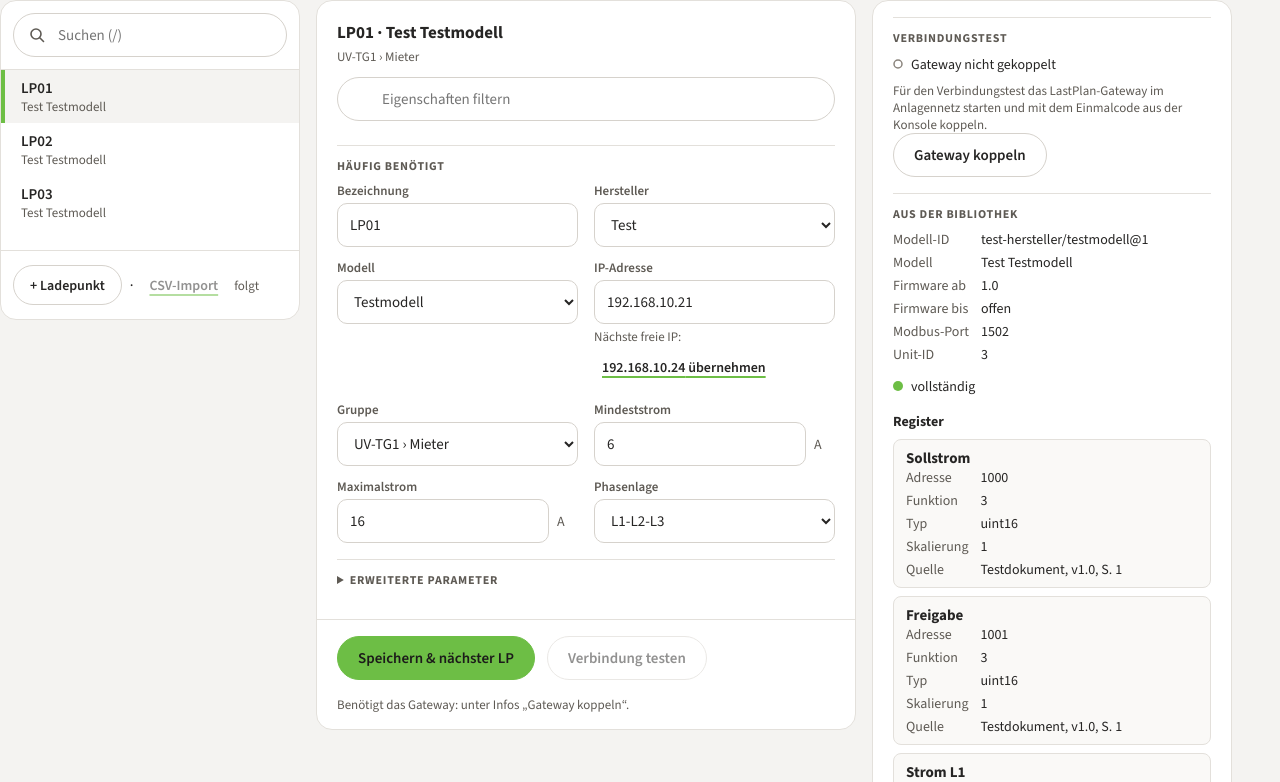
Scenario: Gateway koppeln › Fehler: Format, falscher Code, Gateway nicht erreichbar
The image size is (1280, 782).
Click the button "Gateway koppeln" at {"x": 970, "y": 155}, box [893,133,1047,177]
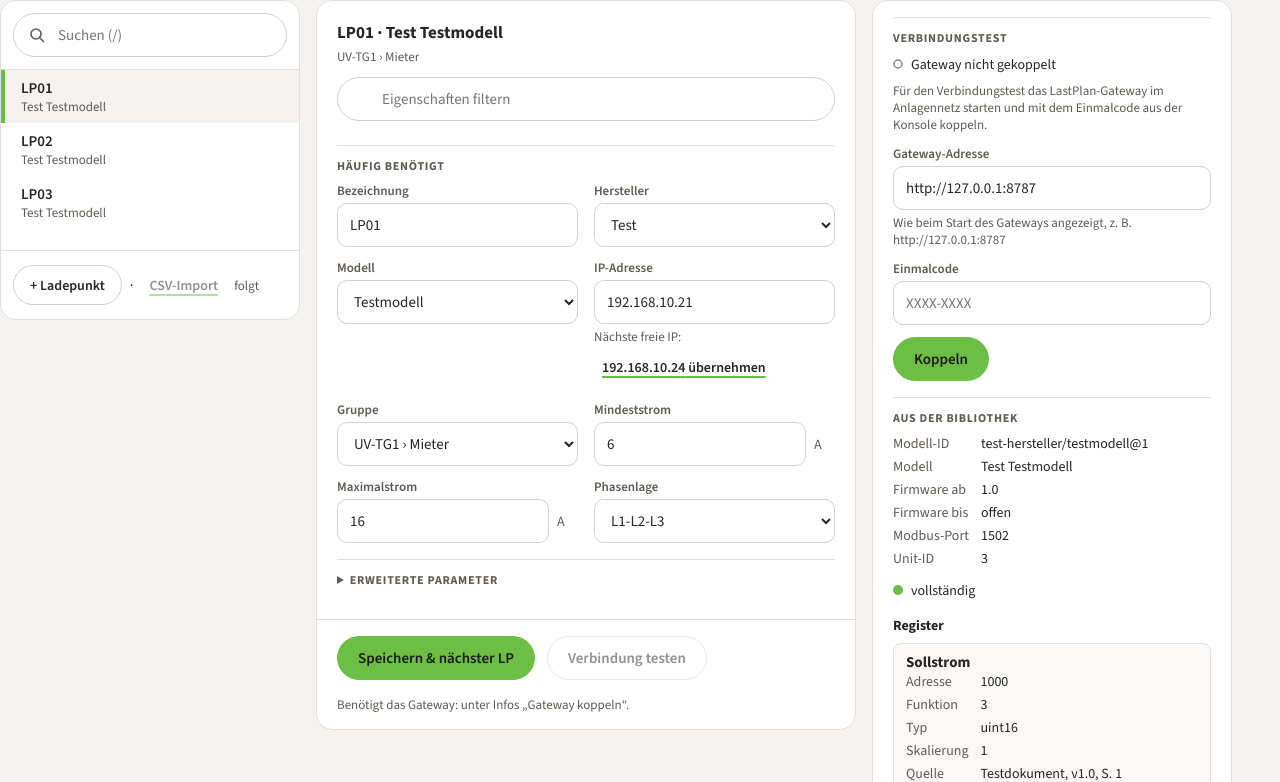
Replace the text in the field labelled "Gateway-Adresse" with "ftp://x" at {"x": 1052, "y": 188}, box [893,166,1211,210]
Click the button "Koppeln" at {"x": 941, "y": 359}, box [893,337,989,381]
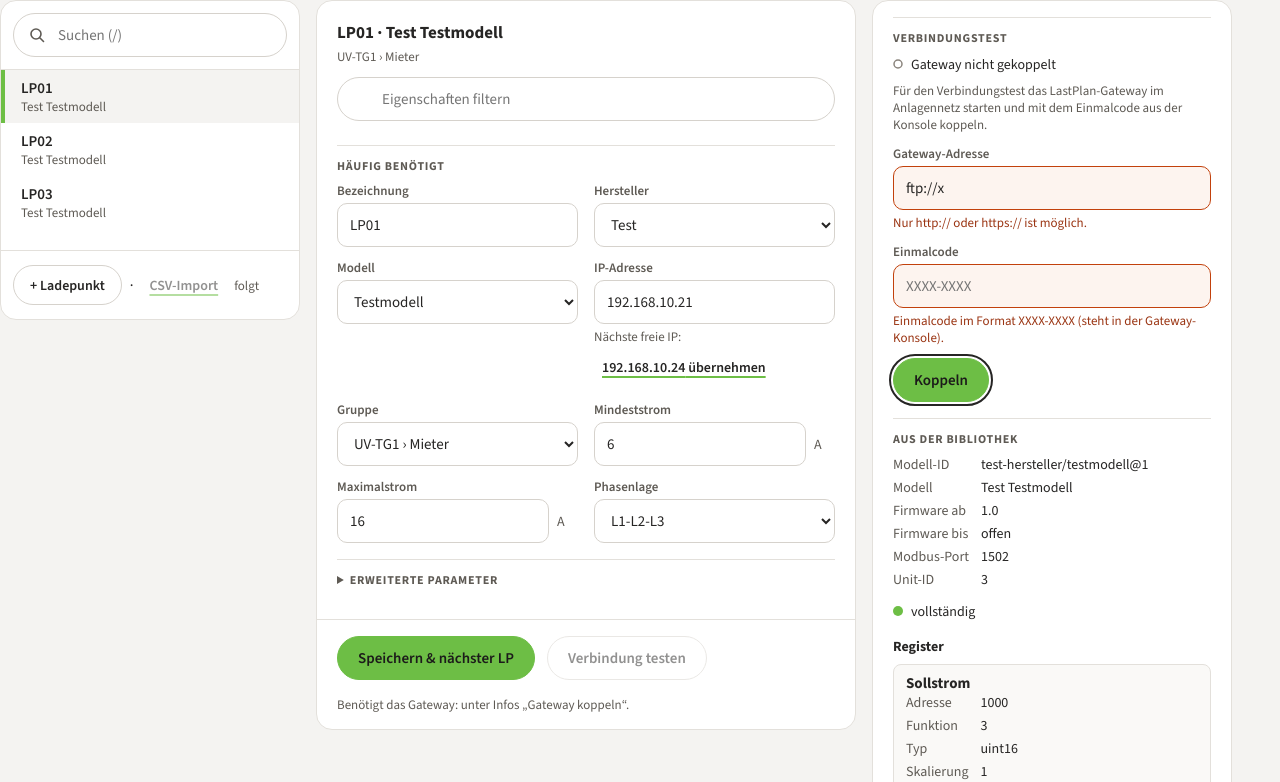
Now the text "Nur http:// oder https:// ist möglich." is shown, box [893,214,1087,231]
Now the text "Einmalcode im Format XXXX-XXXX (steht in der Gateway-Konsole)." is shown, box [893,312,1211,346]
Replace the text in the field labelled "Gateway-Adresse" with "http://10.0.0.9:8787" at {"x": 1052, "y": 188}, box [893,166,1211,210]
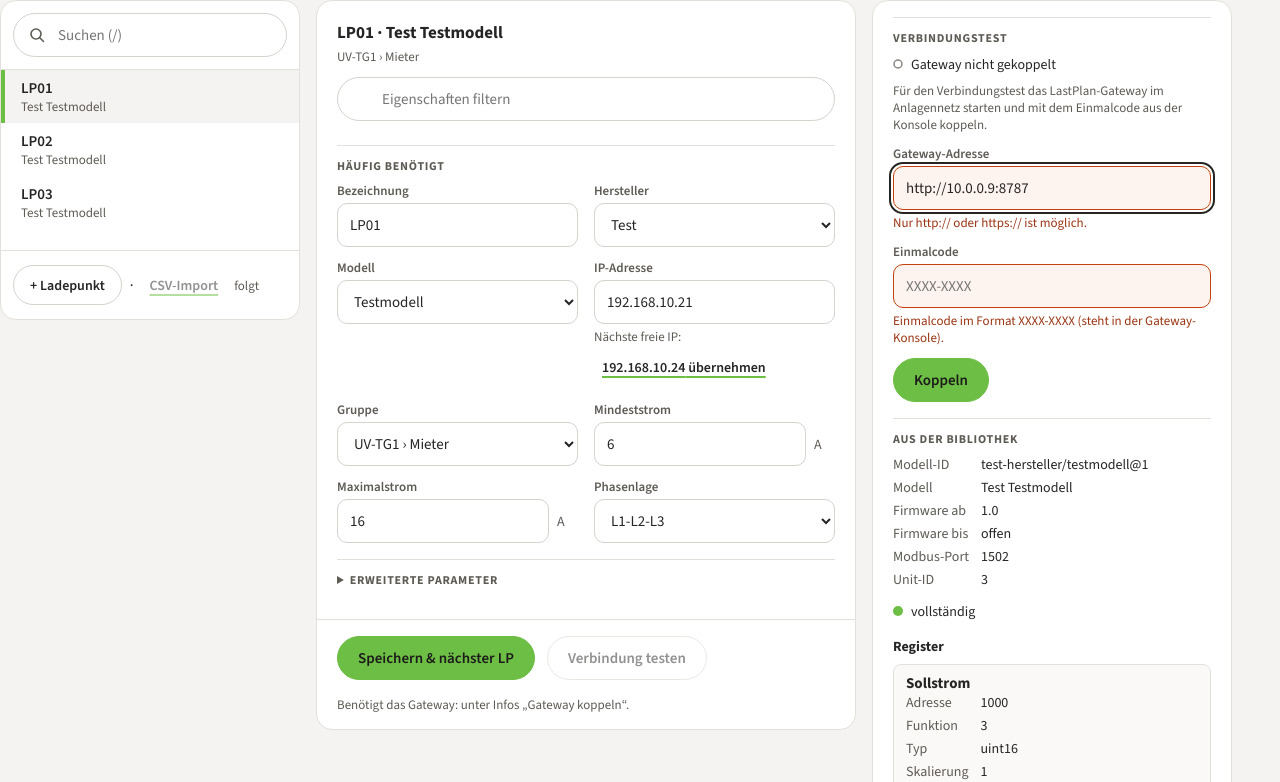
Type "AAAA-BBBB" into the field labelled "Einmalcode" at {"x": 1052, "y": 286}, box [893,264,1211,308]
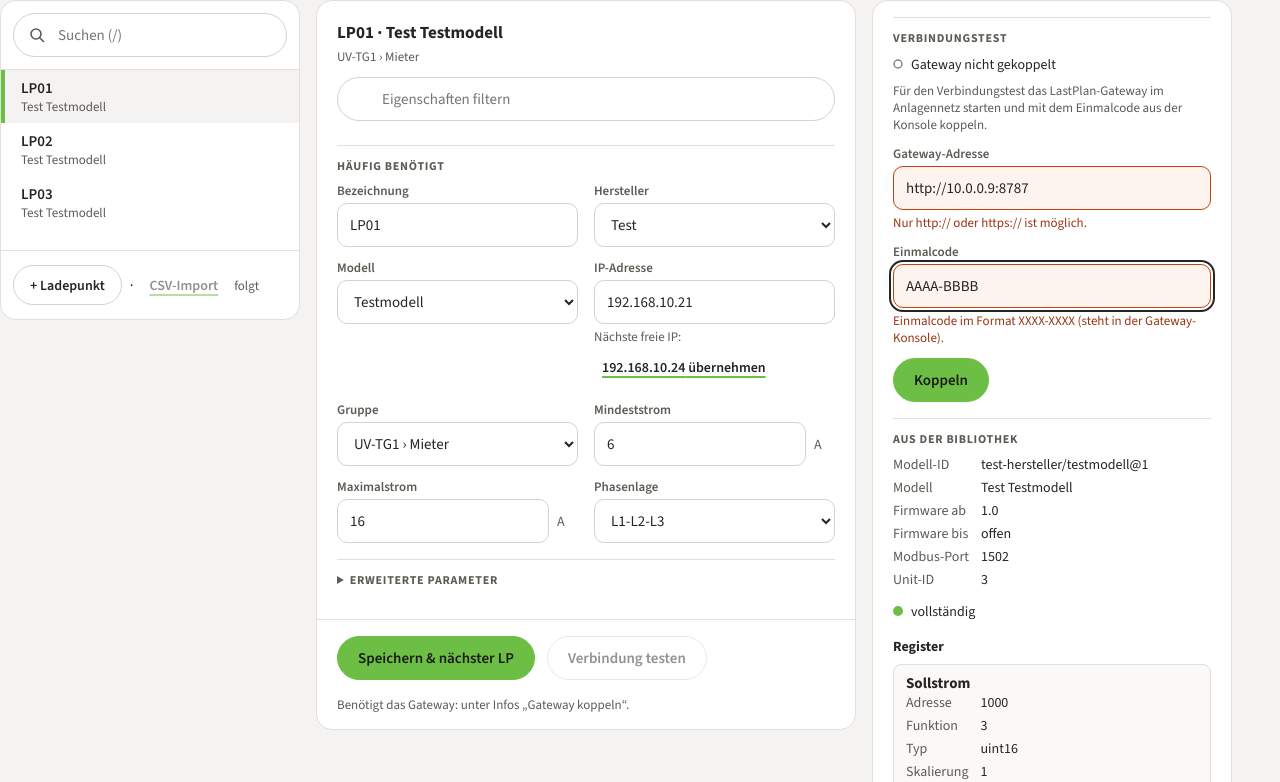
Click the button "Koppeln" at {"x": 941, "y": 380}, box [893,358,989,402]
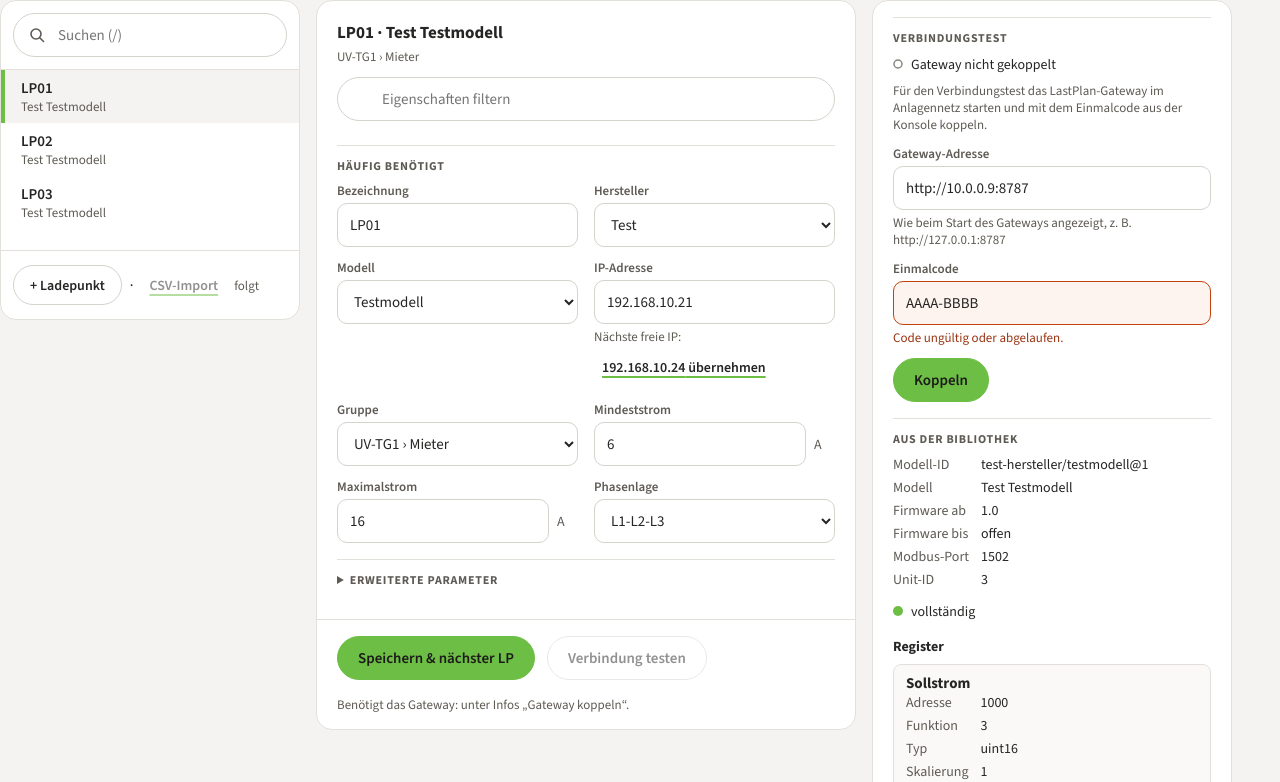
Now the text "Code ungültig oder abgelaufen." is shown, box [893,329,1063,346]
Click the button "Koppeln" at {"x": 941, "y": 380}, box [893,358,989,402]
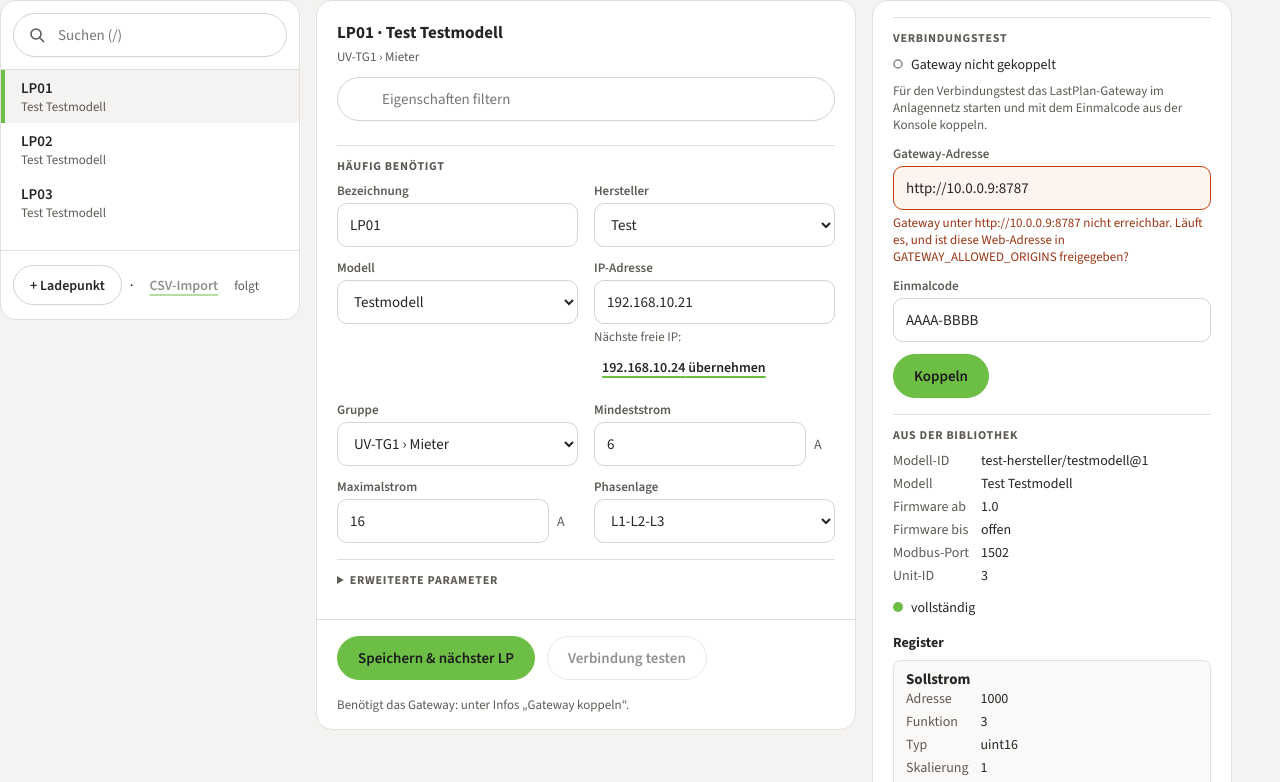
Now the text "Gateway unter http://10.0.0.9:8787 nicht erreichbar" is shown, box [893,214,1202,265]
